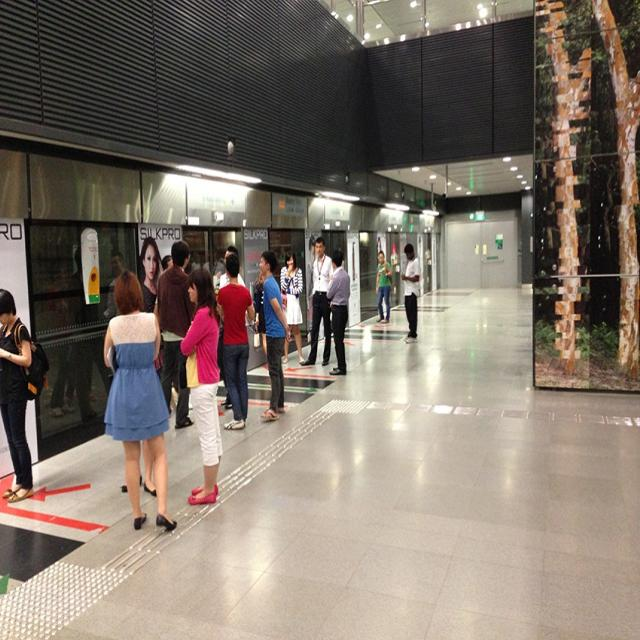body: (102, 268, 179, 533), (30, 228, 103, 443), (178, 267, 223, 506), (0, 286, 48, 502), (155, 239, 196, 429), (216, 254, 254, 432), (258, 250, 292, 421), (217, 245, 248, 410), (299, 235, 335, 366), (104, 248, 134, 405), (582, 223, 614, 352), (324, 249, 351, 376), (280, 250, 306, 365), (116, 434, 160, 498), (400, 242, 420, 344), (135, 234, 161, 312), (184, 236, 225, 274), (252, 269, 268, 360), (304, 235, 318, 338), (374, 249, 392, 324), (424, 238, 438, 292), (358, 240, 372, 291), (154, 338, 166, 373), (160, 250, 175, 275), (275, 244, 287, 267), (418, 234, 422, 263), (377, 235, 382, 256)
